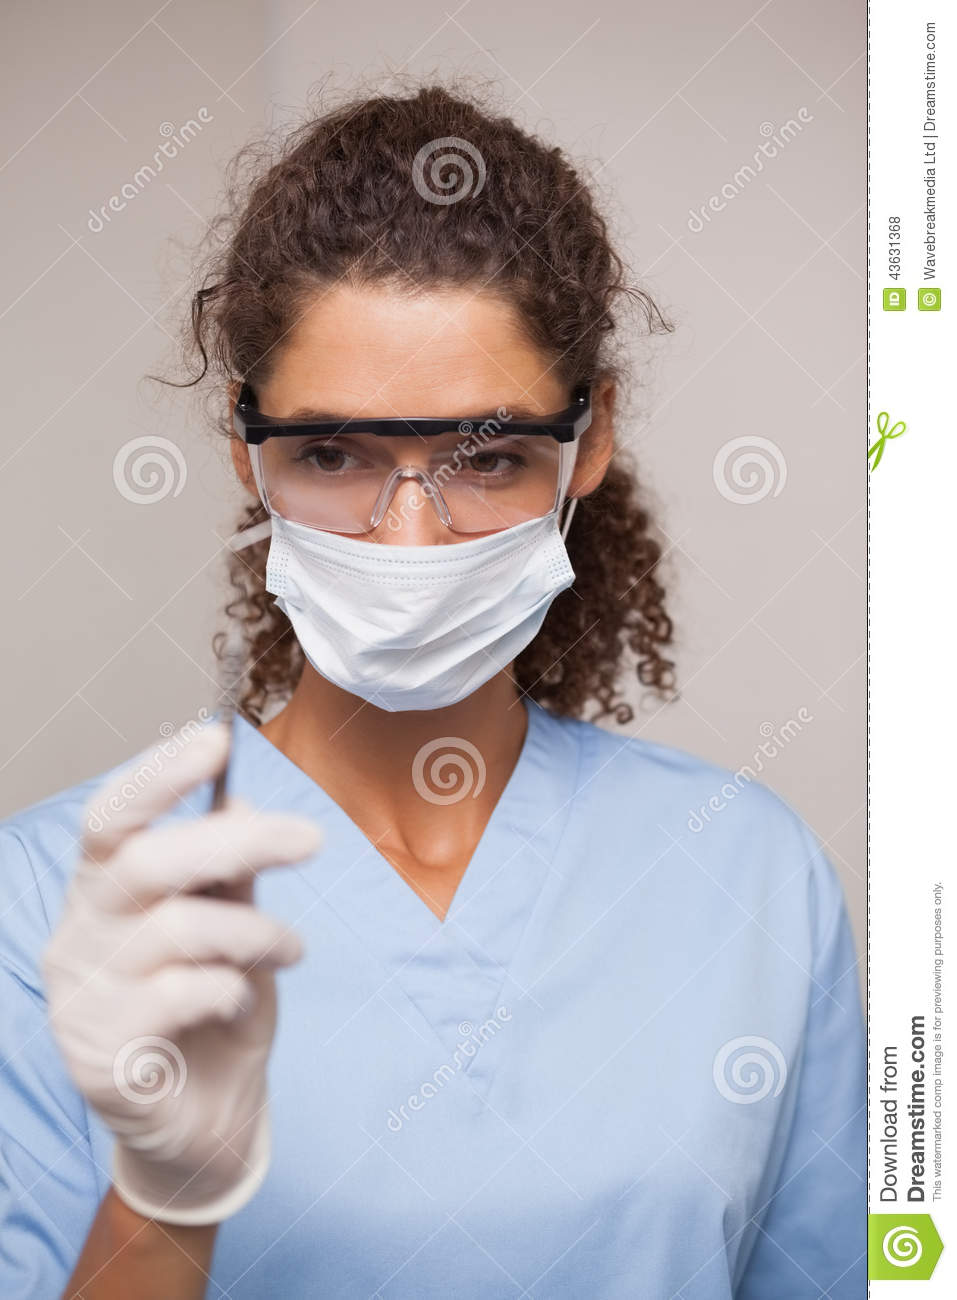mask: (234, 511, 604, 731)
